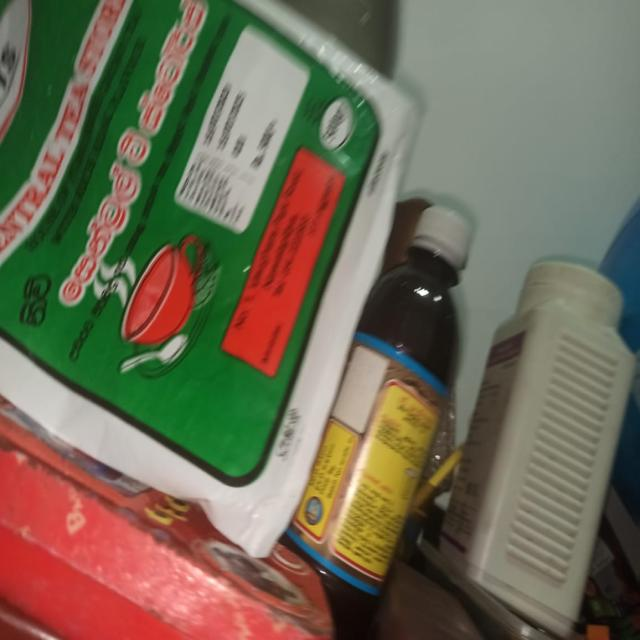Central Tea: (0, 0, 370, 561)
